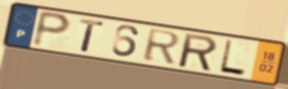6: (111, 24, 141, 59)
L: (217, 38, 248, 78)
P: (29, 9, 73, 49)
R: (178, 32, 219, 74), (141, 27, 183, 66)
T: (78, 17, 105, 54)
